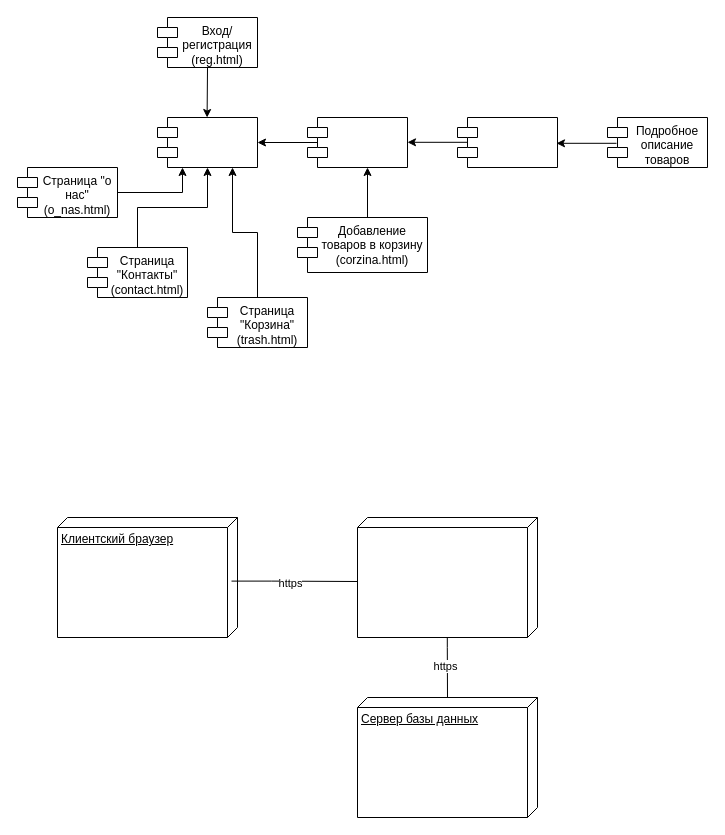
Image size: 725x835. Some labels were removed from this diagram. The shapes that lost their labels are listed below. From the top down, each one's box as (x1, y1, x2, y2) in pixels, then its label:
(156, 116, 258, 168): Главная страница (index.html)
(306, 116, 408, 168): Каталог товаров (catalog.html)
(456, 116, 558, 168): Отображение товаров
(356, 516, 538, 638): Веб-сервер
